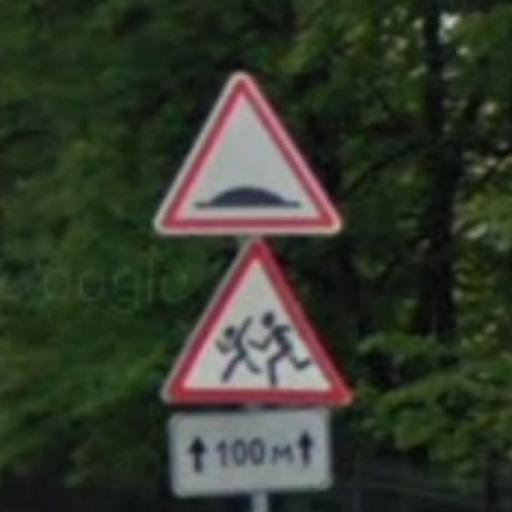traffic_sign: (154, 70, 346, 241), (161, 238, 353, 409)
